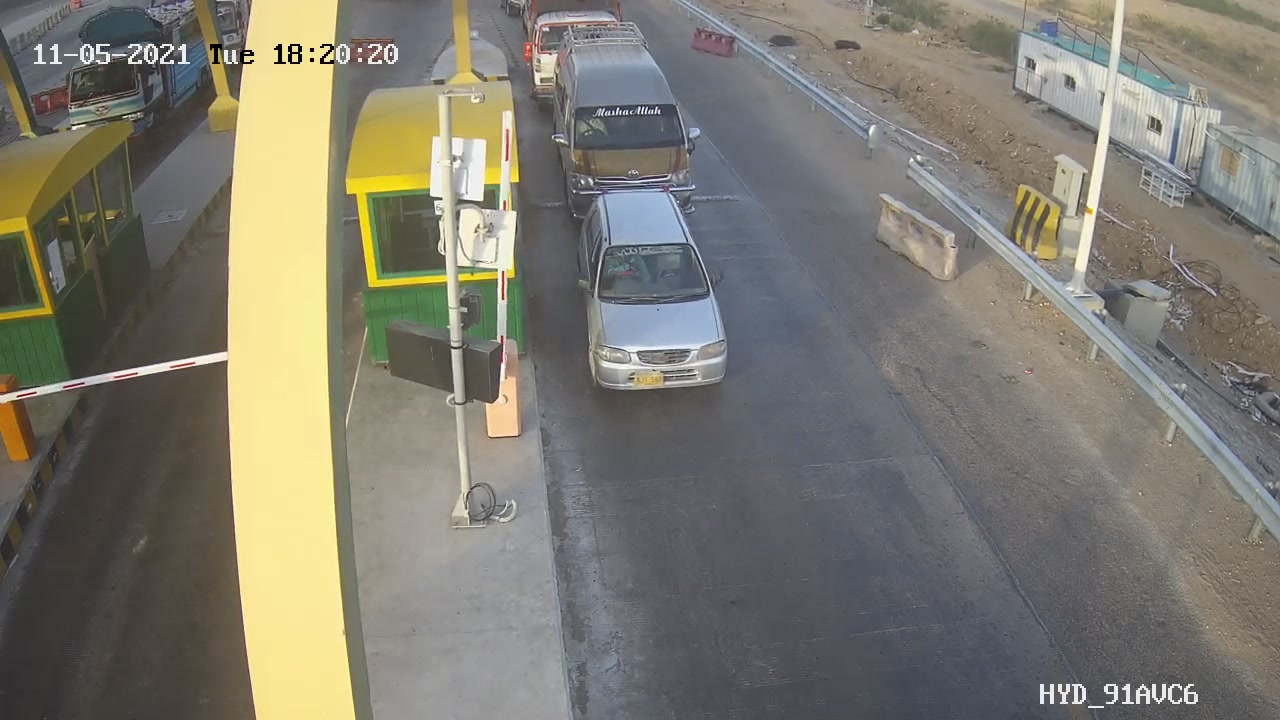F1: (567, 185, 736, 396)
